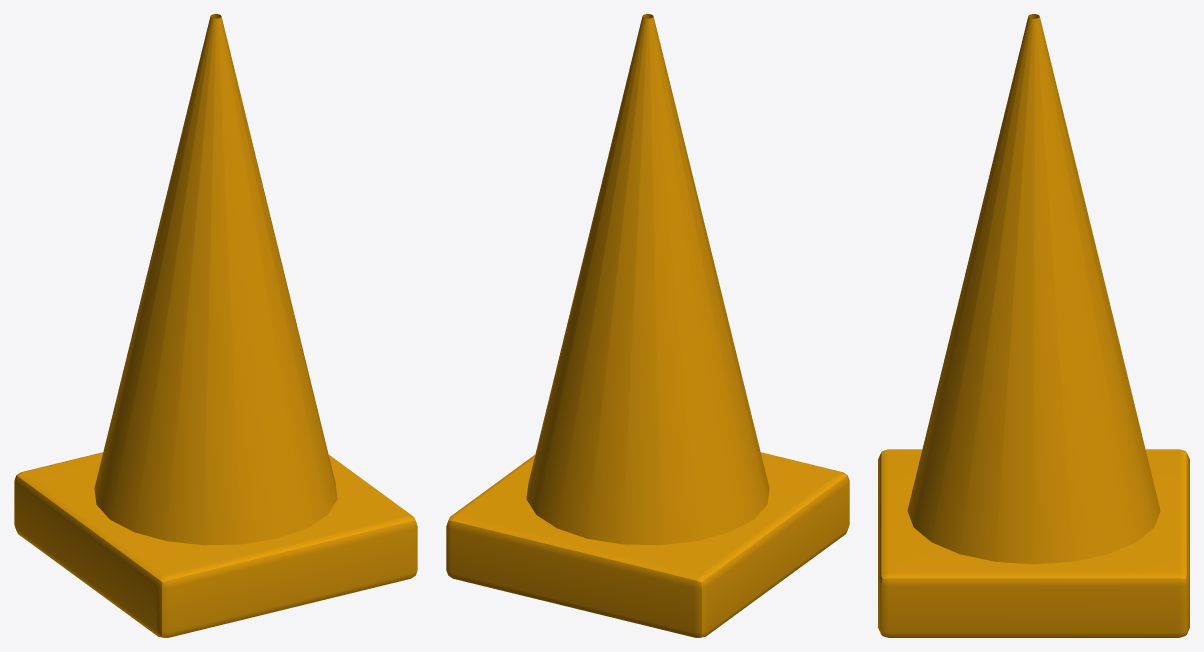
3 renders of one model, left to right at view 1: azimuth 30°, elevation 25°; view 2: azimuth 150°, elevation 25°; view 3: azimuth 270°, elevation 25°, orthographic. The views are drawn at different scales.
Visible parts, largest first — view 1: Cone; view 2: Cone; view 3: Cone.
Boxes of the visible parts, x1=… form: Cone: x1=14, y1=14, x2=417, y2=637; Cone: x1=446, y1=14, x2=849, y2=637; Cone: x1=878, y1=14, x2=1189, y2=637.
Bounding box in the file's own units: 222 × 440 × 222.
